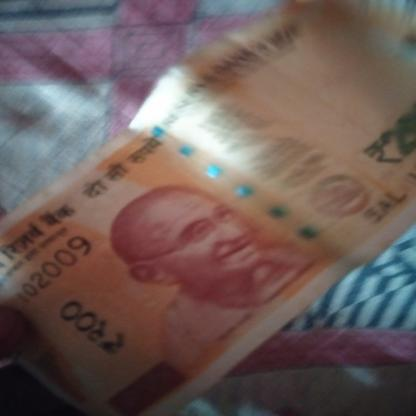New200Front: (1, 47, 415, 394)
